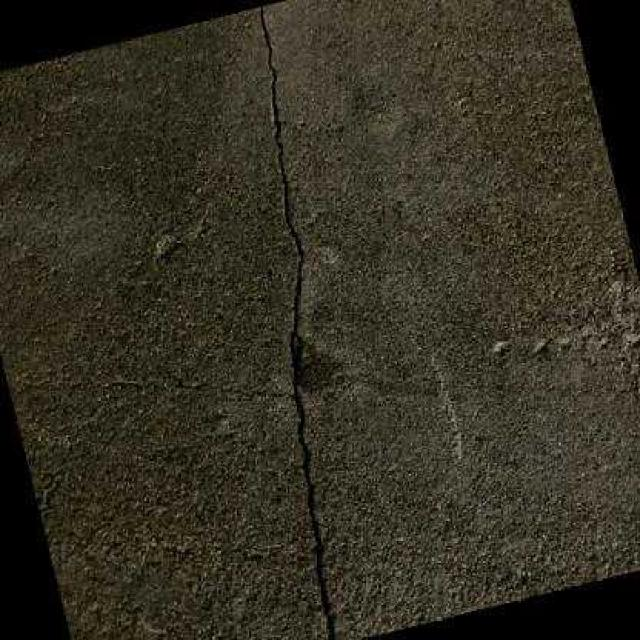D00: (257, 5, 333, 640)
